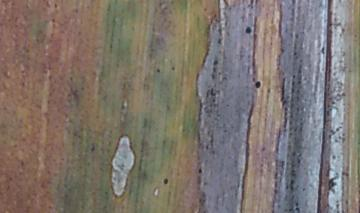tarspot: (253, 80, 262, 89), (244, 25, 252, 35), (216, 35, 223, 45), (155, 66, 162, 74), (52, 1, 59, 9), (212, 58, 219, 66), (197, 167, 203, 175), (294, 205, 300, 213), (49, 17, 56, 23), (163, 177, 168, 185), (170, 65, 176, 71)
